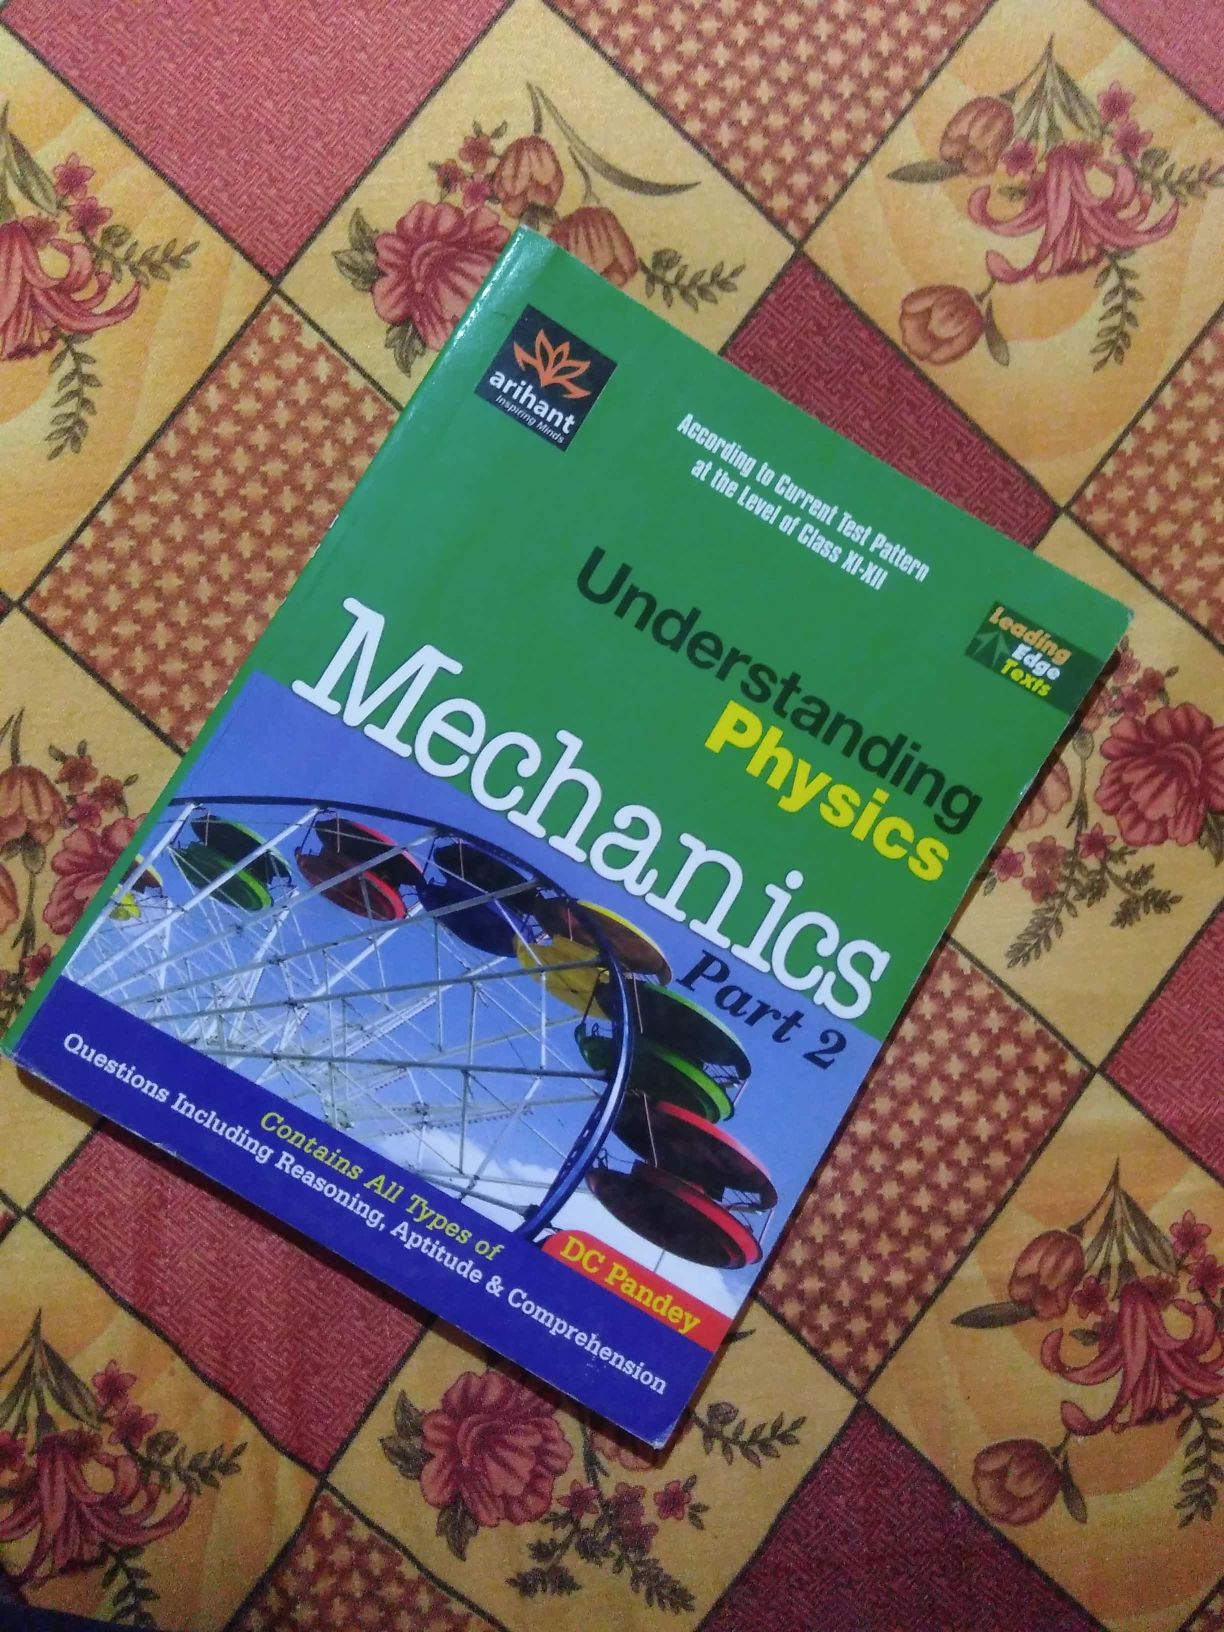mechanics: (81, 269, 1076, 1388)
